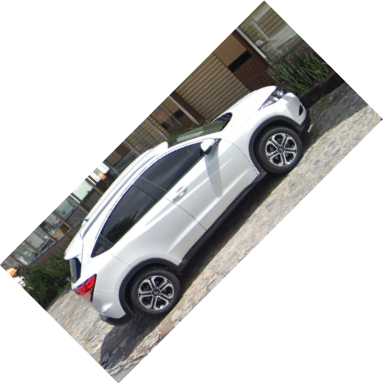car: (63, 83, 313, 330)
